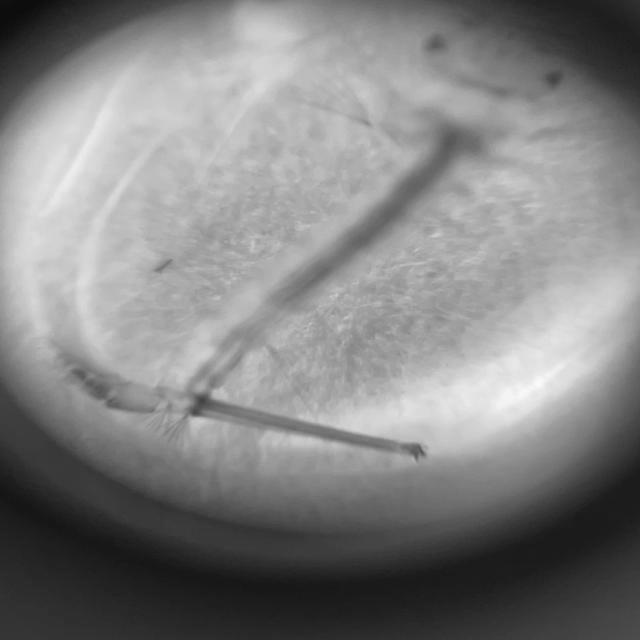larvas: (160, 21, 568, 422)
